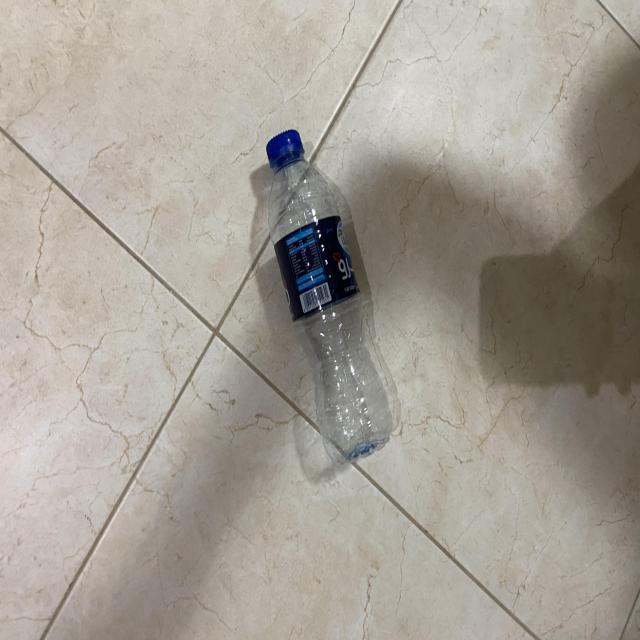bottle: (244, 138, 407, 460)
